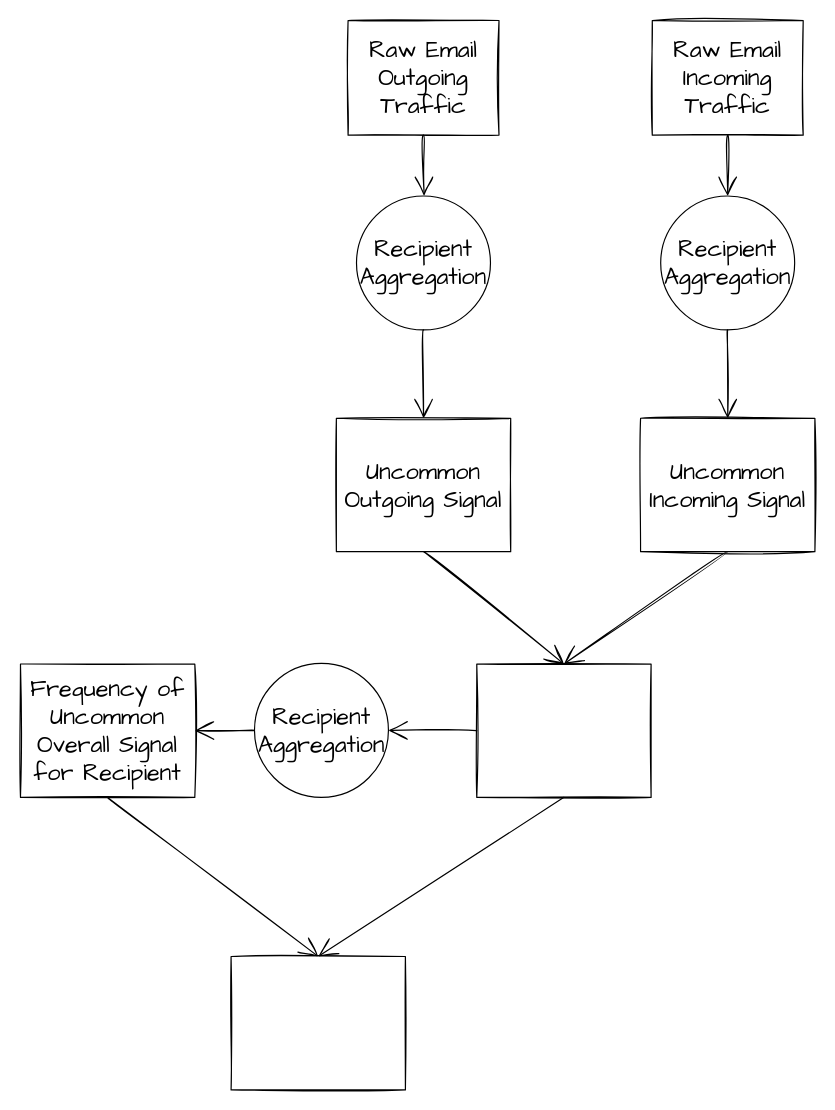
Some shapes in this 835 by 1110 pixel diagram are drawn without their labels. The shapes that lost their labels are listed below. From the top down, each one's box as (x1, y1, x2, y2) in pixels, then its label:
(476, 663, 651, 797): Uncommon Overall Signal
(230, 955, 405, 1090): Model Features
